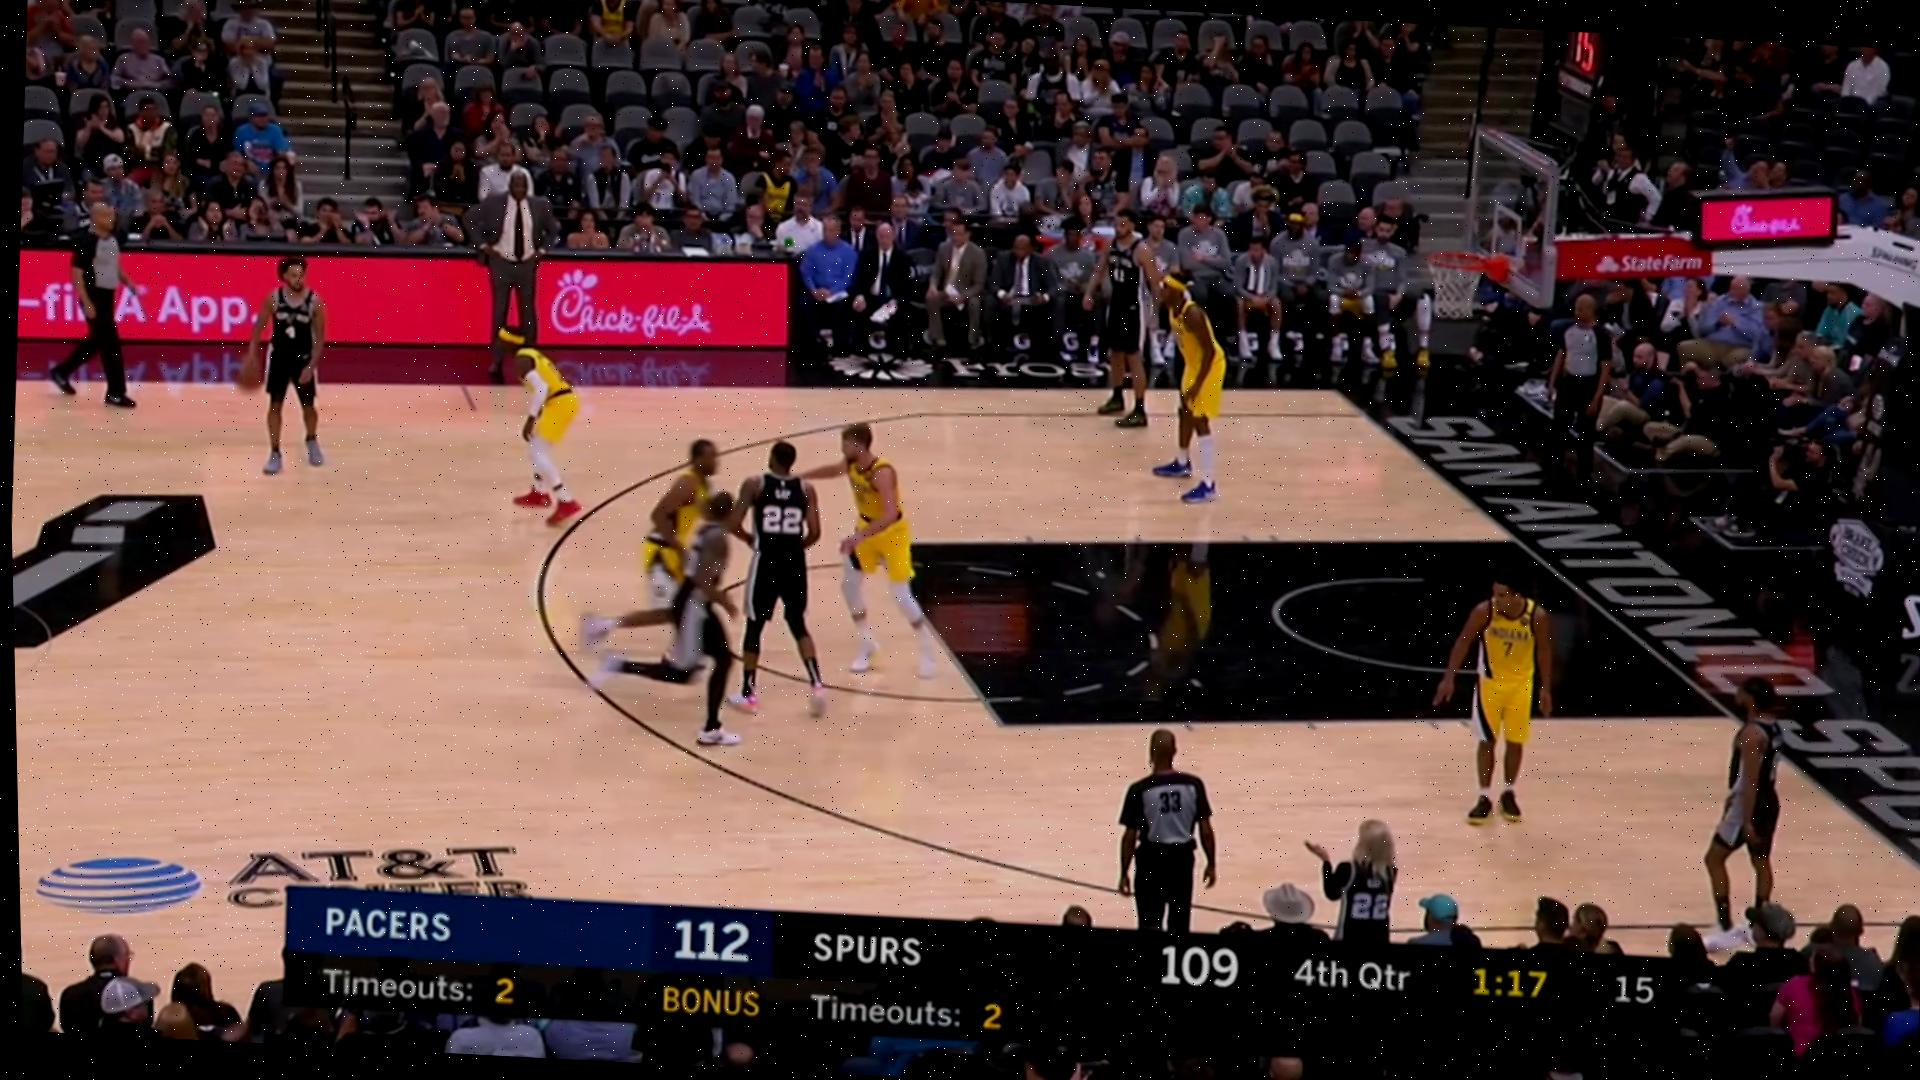no_foul: (736, 408, 955, 694)
